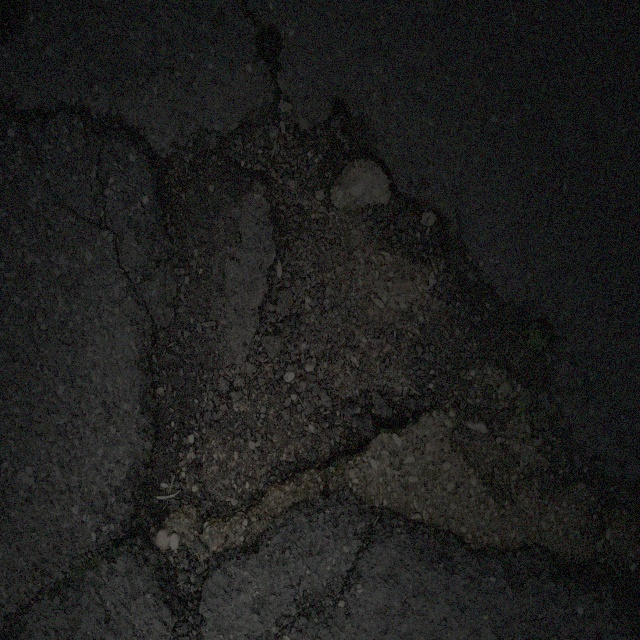pothole: (134, 85, 602, 588)
